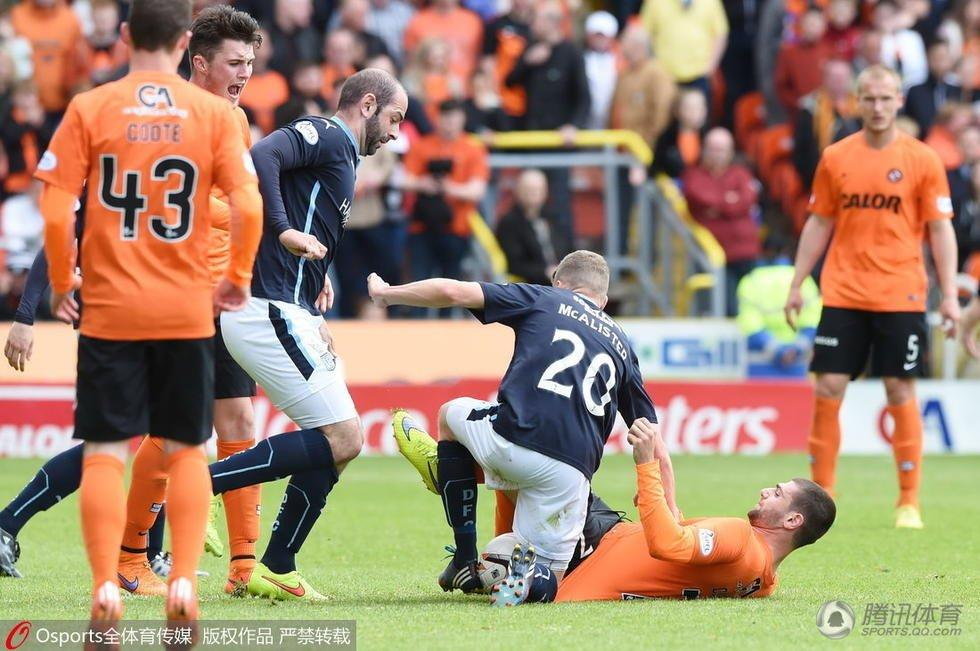bending: (211, 59, 425, 595), (365, 239, 660, 620)
down: (373, 398, 856, 627)
up: (43, 1, 266, 640), (771, 61, 974, 534)
